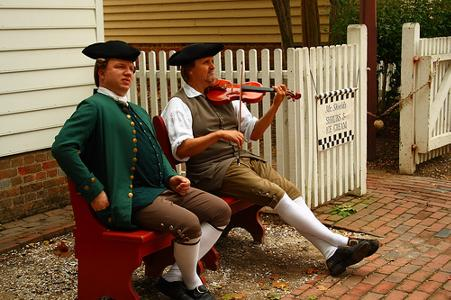person: (160, 42, 381, 277)
